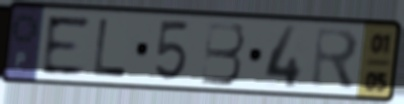4: (261, 22, 307, 91)
5: (153, 18, 191, 83)
B: (199, 20, 247, 87)
E: (40, 14, 92, 77)
L: (90, 16, 128, 80)
R: (309, 25, 363, 94)
